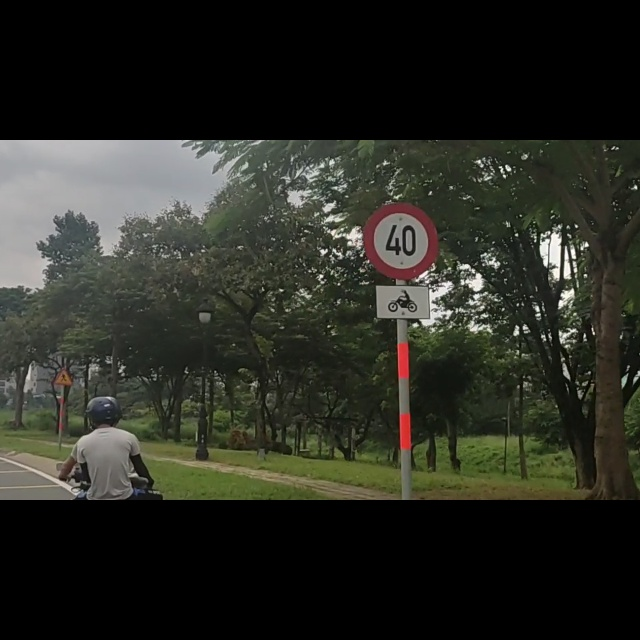bien_nguy_hiem: (363, 111, 439, 247), (53, 403, 73, 439)
